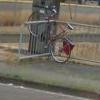Bicycle: (17, 0, 74, 63)
